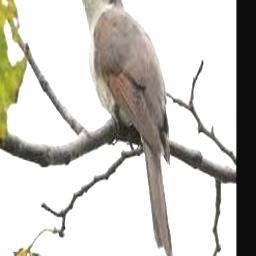Cuckoo: (63, 0, 173, 256)
